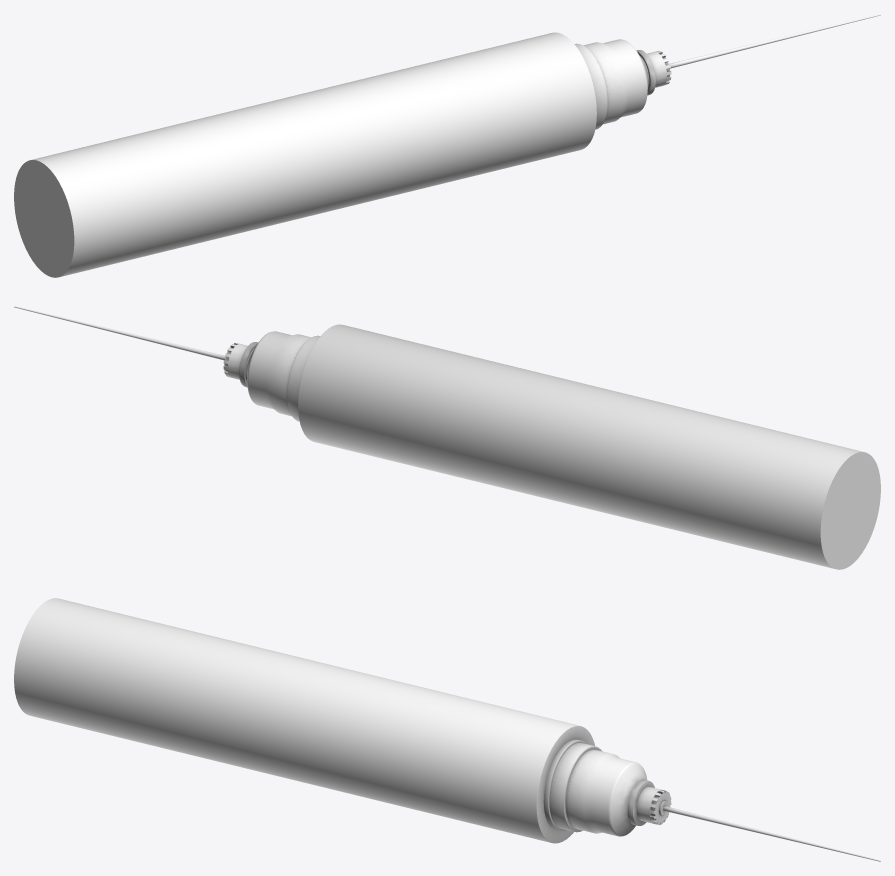
File: distillery_syringe_01.glb
3 renders of one model, top to bottom at view 1: azimuth 30°, elevation 25°; view 2: azimuth 150°, elevation 25°; view 3: azimuth 330°, elevation 25°, orthographic.
Parts seen in each view (by area): view 1: distillery_syringe_01; view 2: distillery_syringe_01; view 3: distillery_syringe_01.
Part boxes in pixels (<box>): distillery_syringe_01: <box>14,14,880,277</box>; distillery_syringe_01: <box>14,306,880,569</box>; distillery_syringe_01: <box>14,598,880,861</box>.
Size of the model in its own units: 11.12 by 1.39 by 1.39.
1 material, 1 textured.
